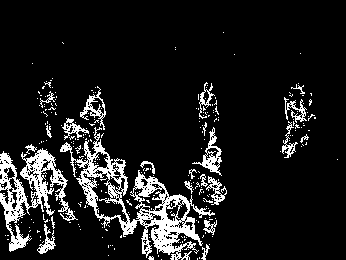person: (22, 144, 71, 251), (81, 153, 135, 236), (184, 146, 226, 240), (148, 195, 205, 260), (1, 150, 28, 250), (131, 159, 167, 229), (78, 86, 112, 141), (61, 118, 95, 171), (195, 81, 219, 141), (36, 76, 59, 137)
